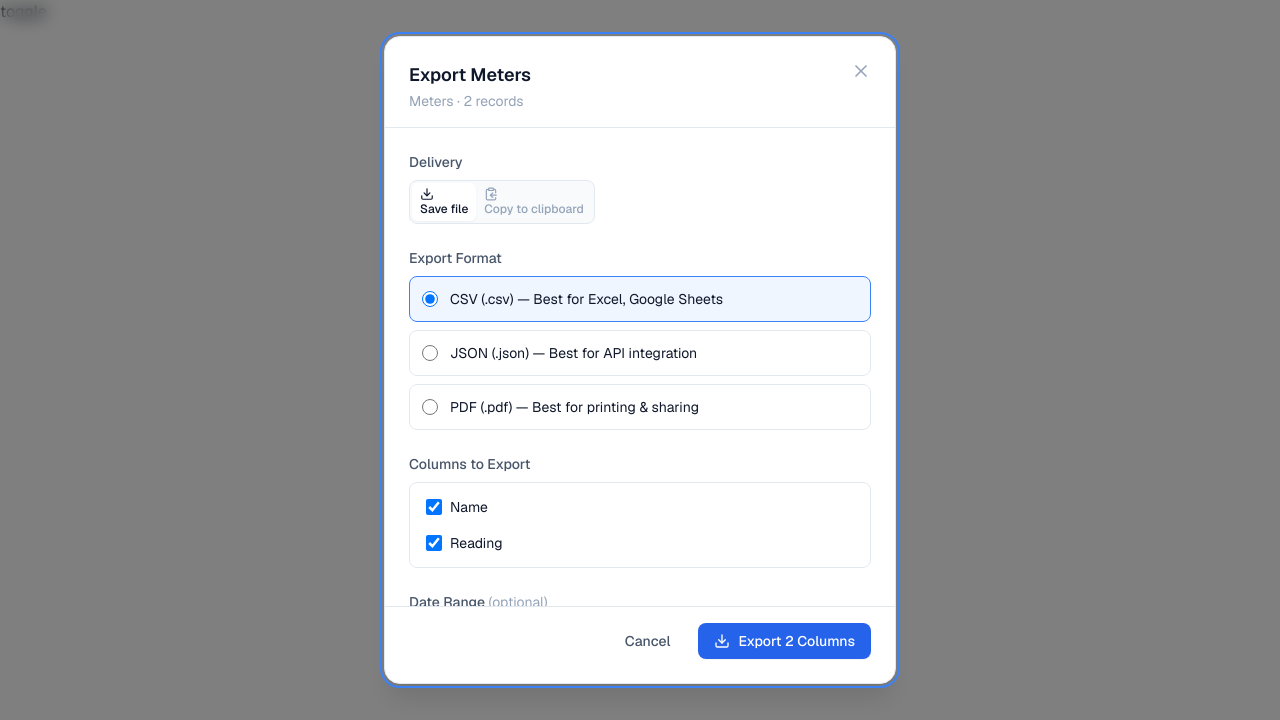
ExportDialog clipboard delivery › copies the CSV payload to the clipboard and closes the dialog
Step 1. Click the radio button labelled "Copy to clipboard" → (534, 202), box [476,183,592,221]
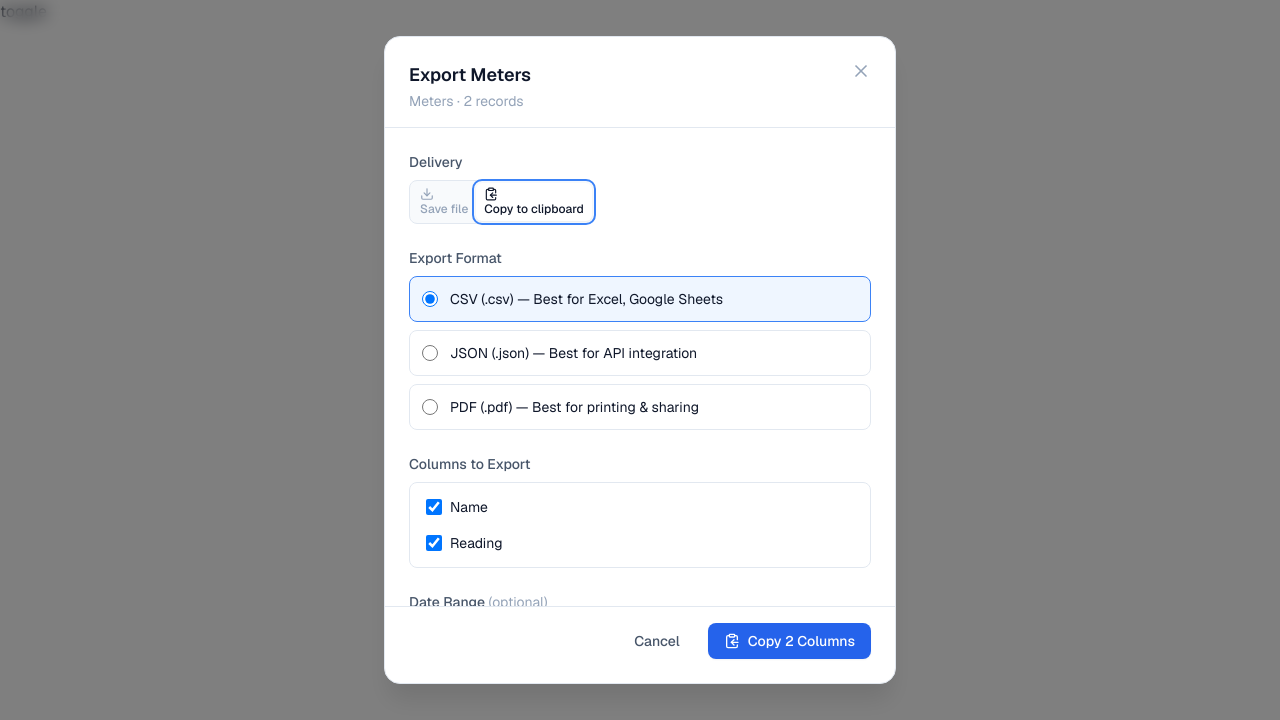
Step 2. Click the button "Copy 2 Columns" → (789, 641), box [708,623,871,659]
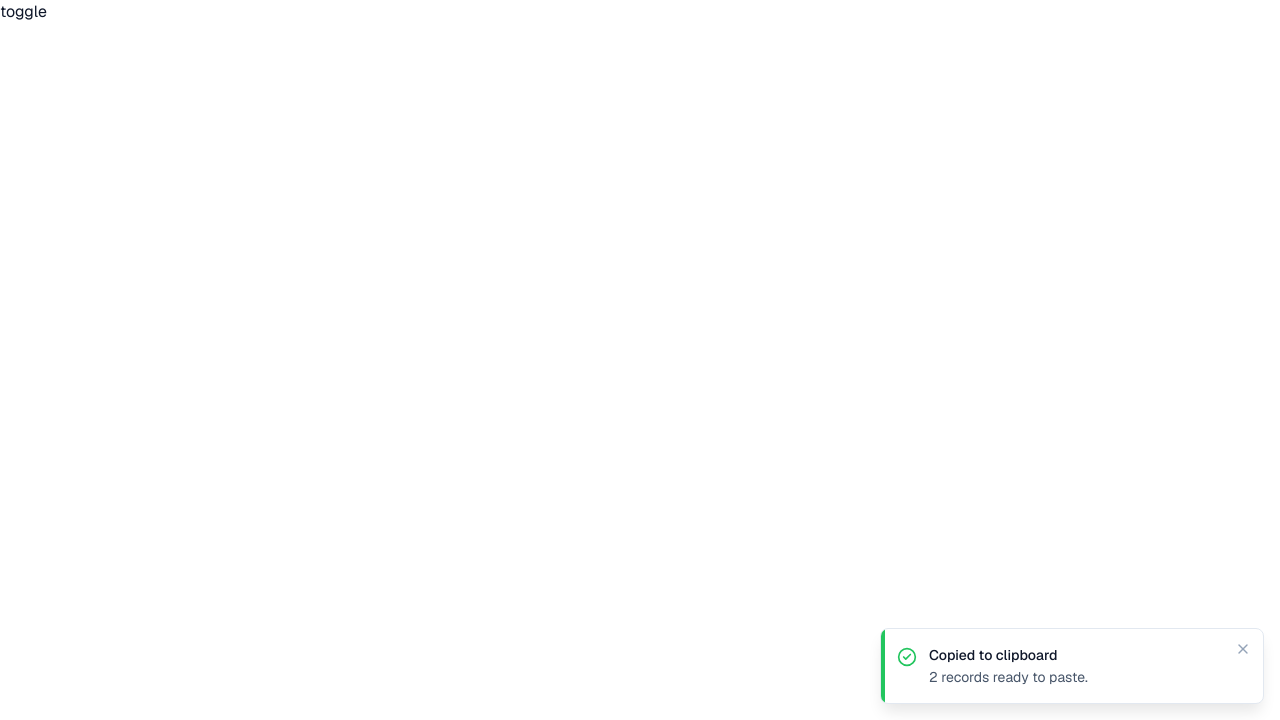
expect the text "Copied to clipboard" is shown: met, box [929,646,1057,664]
expect the heading "Export Meters" is gone: met
